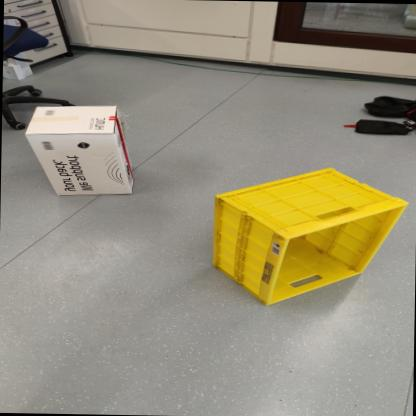box: (202, 154, 414, 338), (7, 100, 156, 224)
